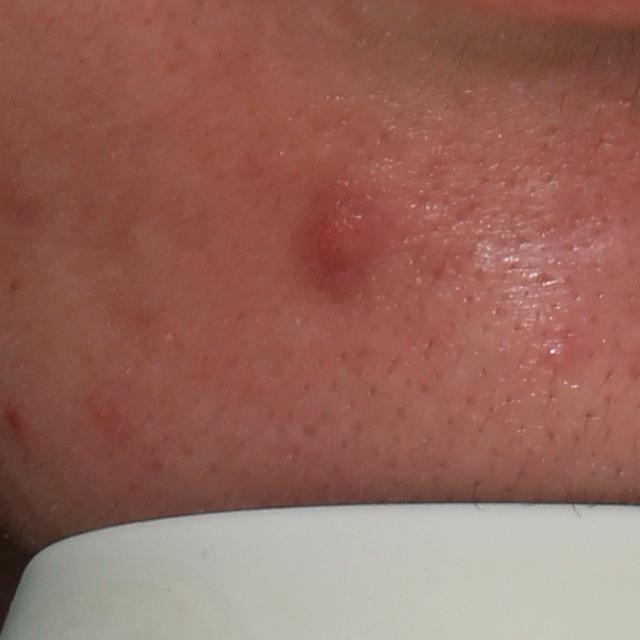papule: (289, 179, 388, 291), (2, 397, 28, 441)
